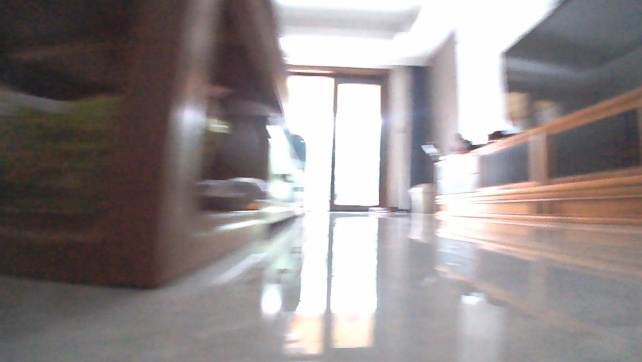TV_stand: (428, 82, 641, 224)
